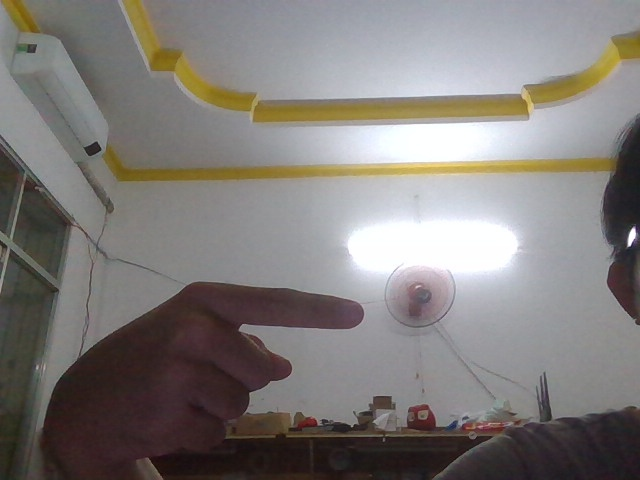turn_left: (24, 275, 378, 480)
